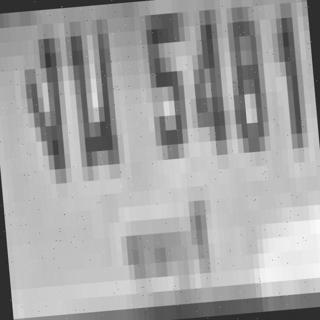A07: (20, 23, 72, 186)
A25: (62, 15, 128, 183)
N01: (264, 2, 303, 150)
N04: (177, 9, 228, 158)
N05: (135, 1, 190, 164)
N08: (215, 5, 271, 154)
